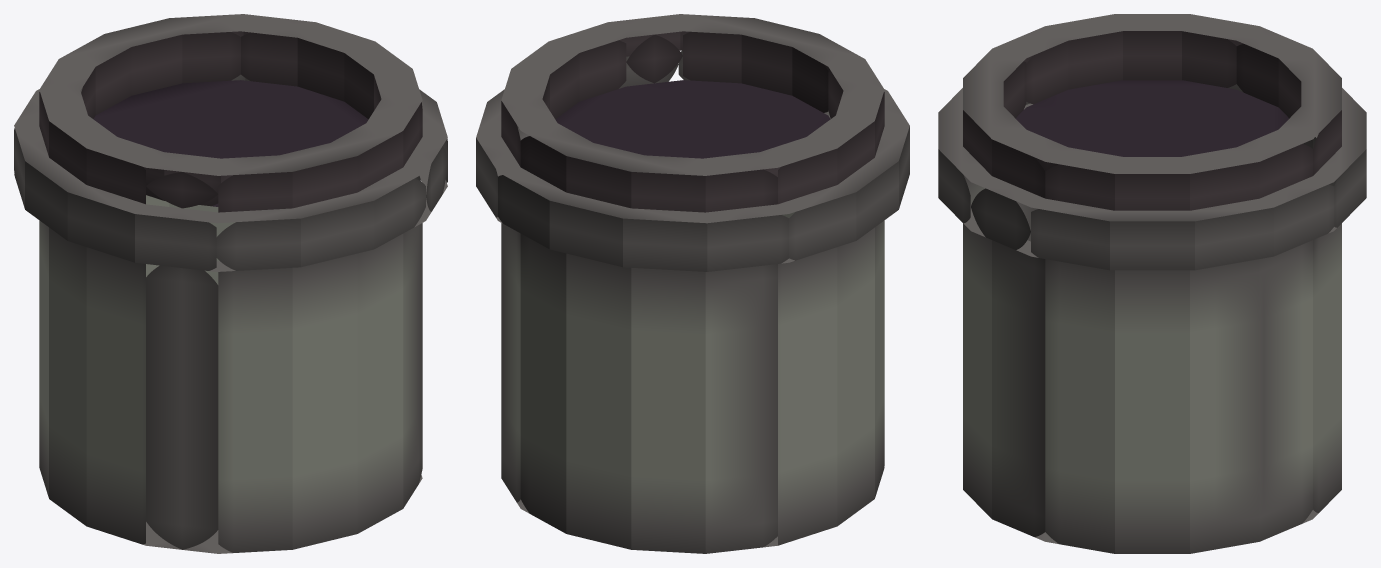
Rendered from labCup.fbx.
The picture shows the model from 3 angles, left to right: view 1: azimuth 30°, elevation 25°; view 2: azimuth 150°, elevation 25°; view 3: azimuth 270°, elevation 25°; orthographic projection.
Parts seen in each view (by area): view 1: labCup; view 2: labCup; view 3: labCup.
Part boxes in pixels (x1=…): labCup: x1=14, y1=14, x2=447, y2=553; labCup: x1=476, y1=14, x2=909, y2=553; labCup: x1=938, y1=14, x2=1366, y2=553.
Size of the model in its own units: 61.91 by 60.55 by 61.91.
